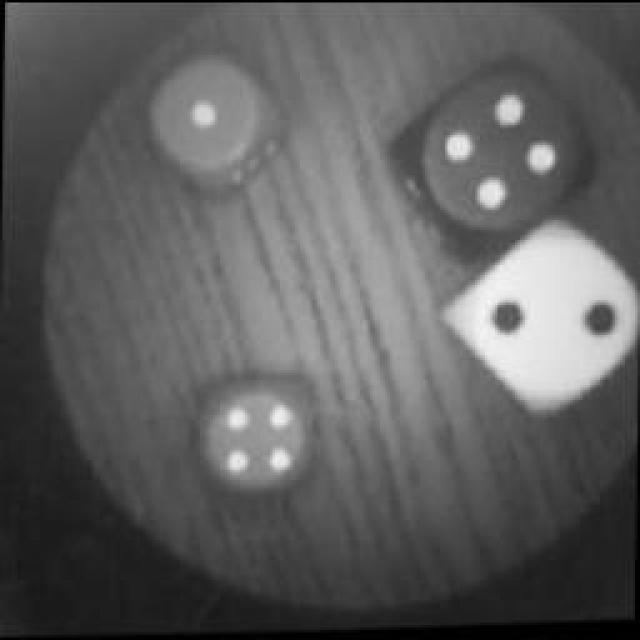dice_1: (140, 48, 280, 190)
dice_2: (442, 218, 640, 418)
dice_4: (395, 59, 590, 249), (195, 370, 323, 500)
